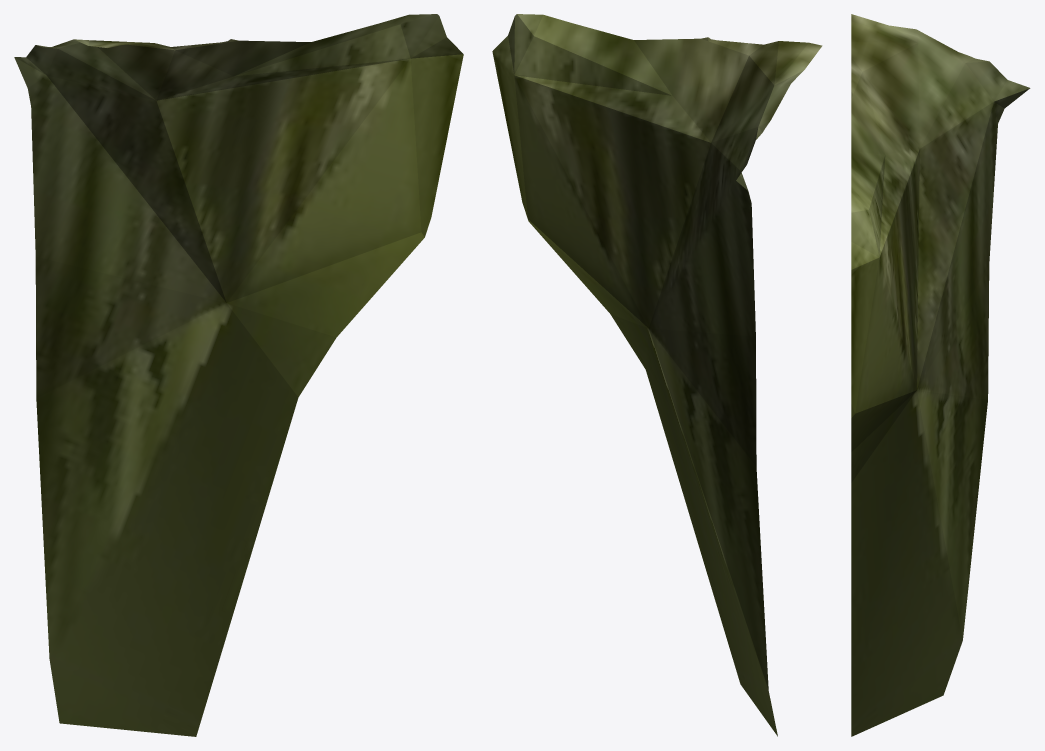
3 renders of one model, left to right at view 1: azimuth 30°, elevation 25°; view 2: azimuth 150°, elevation 25°; view 3: azimuth 270°, elevation 25°, orthographic. The views are drawn at different scales.
Bounding box in the file's own units: 0.9788 × 1.87 × 0.4446.
Materials: 1 (1 with a texture image).
